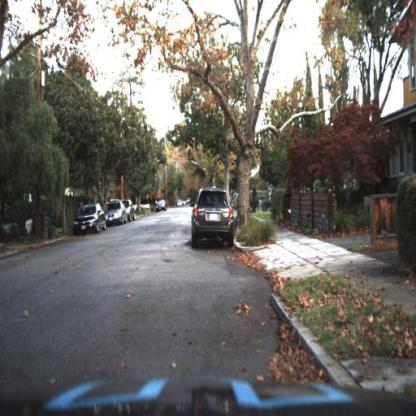car: (188, 187, 238, 251), (75, 201, 106, 239), (105, 199, 126, 228), (124, 199, 136, 224), (156, 199, 168, 213)
